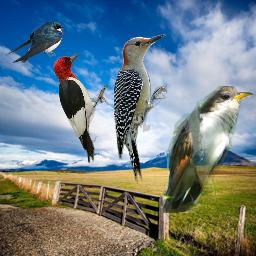Cuckoo: (162, 86, 254, 213)
Swallow: (5, 21, 64, 63)
Woodpecker: (114, 31, 168, 186), (52, 52, 108, 163)
